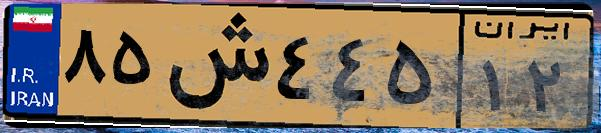1: (475, 38, 525, 113)
2: (525, 38, 570, 115)
4: (270, 28, 330, 110), (330, 28, 385, 110)
5: (385, 28, 445, 110), (110, 28, 158, 98)
8: (57, 26, 110, 100)
ش: (158, 12, 270, 120)
